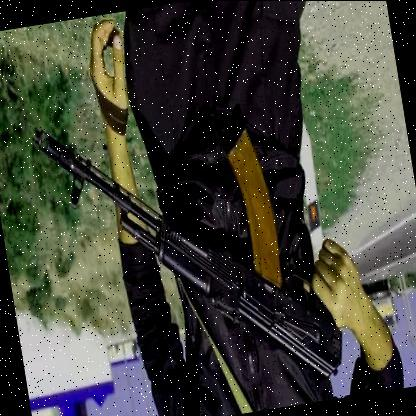rifle: (29, 84, 357, 416)
